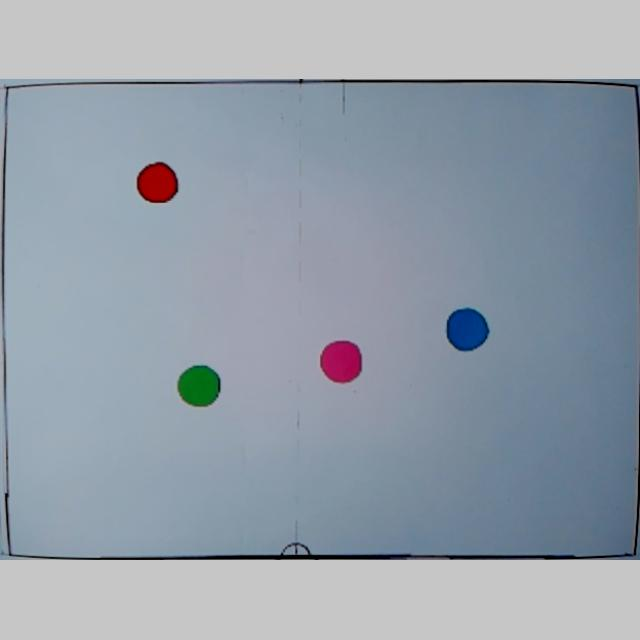blueCircle: (445, 309, 489, 355)
greenCircle: (177, 366, 221, 410)
pinkCircle: (319, 340, 363, 388)
redCircle: (136, 162, 180, 205)
